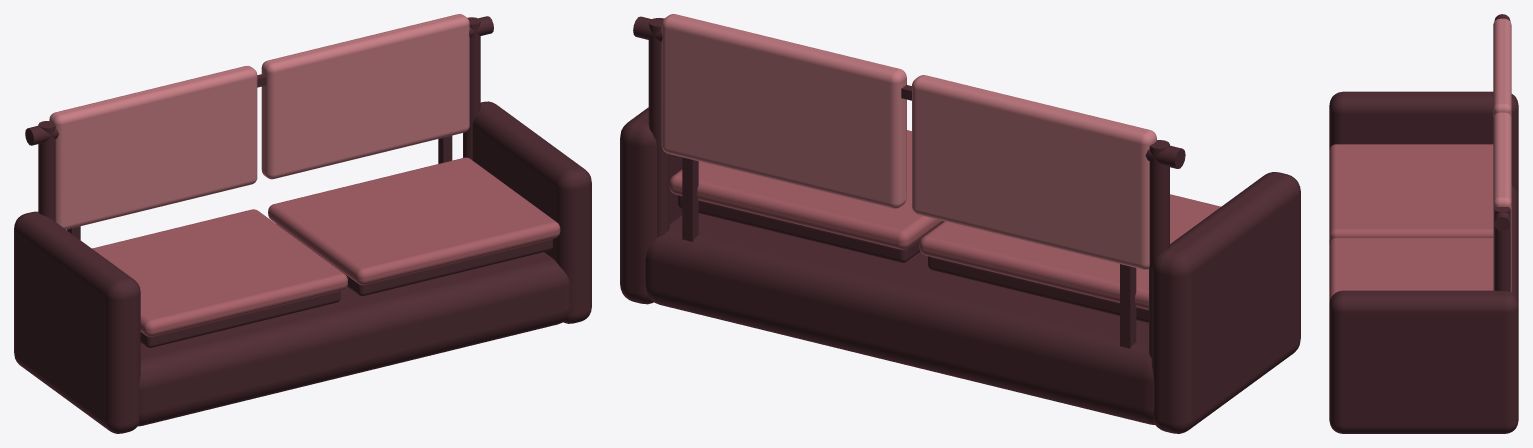
The picture shows the model from 3 angles, left to right: view 1: azimuth 30°, elevation 25°; view 2: azimuth 150°, elevation 25°; view 3: azimuth 270°, elevation 25°; orthographic projection. The views are drawn at different scales.
Parts seen in each view (by area): view 1: arch-base, back-right, back-left, seat-right, arch-arm-left, seat-left, arch-arm-right, seat-support-right, seat-support-left, arch-post-left, arch-post-right; view 2: arch-base, back-right, back-left, arch-arm-left, seat-right, seat-left, arch-arm-right, seat-support-right, seat-support-left, arch-post-right, arch-post-left, back-support-right (+1 smaller); view 3: arch-arm-right, seat-left, arch-arm-left, seat-right, back-right, back-left, arch-post-right, arch-base, arch-shoulder-right.
Boxes of the visible parts, x1,y1,x2,y2 form: arch-base: (138,252,569,426); back-right: (261,14,469,179); back-left: (49,66,257,229); seat-right: (268,157,560,284); arch-arm-left: (14,211,140,433); seat-left: (92,209,347,336); arch-arm-right: (472,101,591,323); seat-support-right: (276,224,552,296); seat-support-left: (140,290,340,347); arch-post-left: (38,121,55,221); arch-post-right: (463,17,480,160); arch-base: (645,213,1154,424); back-right: (661,14,906,208); back-left: (912,75,1156,269); arch-arm-left: (1151,172,1300,433); seat-right: (669,130,943,249); seat-left: (919,194,1220,309); arch-arm-right: (620,107,682,304); seat-support-right: (678,195,943,262); seat-support-left: (928,256,1148,322); arch-post-right: (648,18,669,237); arch-post-left: (1149,140,1169,357); back-support-right: (682,157,698,241); arch-arm-right: (1329,290,1518,433); seat-left: (1329,144,1493,240); arch-arm-left: (1329,91,1518,199); seat-right: (1329,238,1493,303); back-right: (1493,112,1511,292); back-left: (1493,18,1511,117); arch-post-right: (1494,206,1510,291); arch-base: (1329,186,1518,303); arch-shoulder-right: (1494,212,1510,231).
Bounding box in the file's own units: 2.19 × 1.07 × 0.82.
